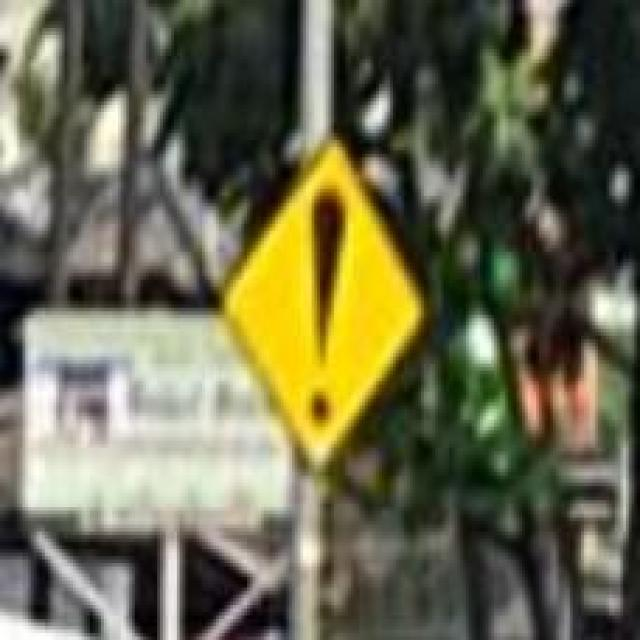traffic sign: (219, 140, 432, 462)
